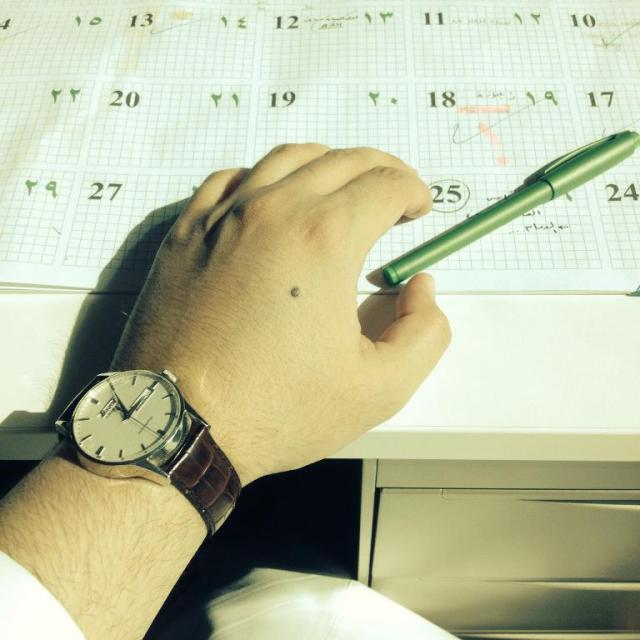pen: (374, 125, 640, 282)
